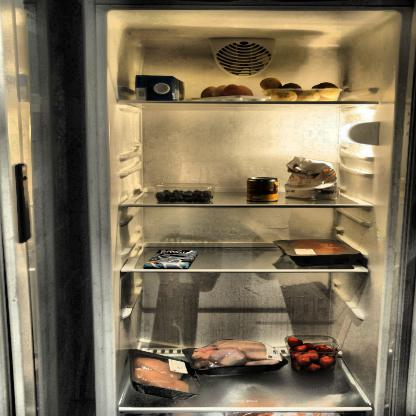beef: (282, 238, 358, 260)
blueberries: (154, 188, 216, 204)
chicken: (189, 337, 283, 374), (132, 354, 191, 394)
chocolate: (145, 248, 200, 268)
corn: (245, 176, 280, 204)
eggs: (197, 83, 256, 100)
milk: (132, 74, 186, 105)
potato: (260, 77, 347, 104)
strawberries: (286, 336, 340, 374)
